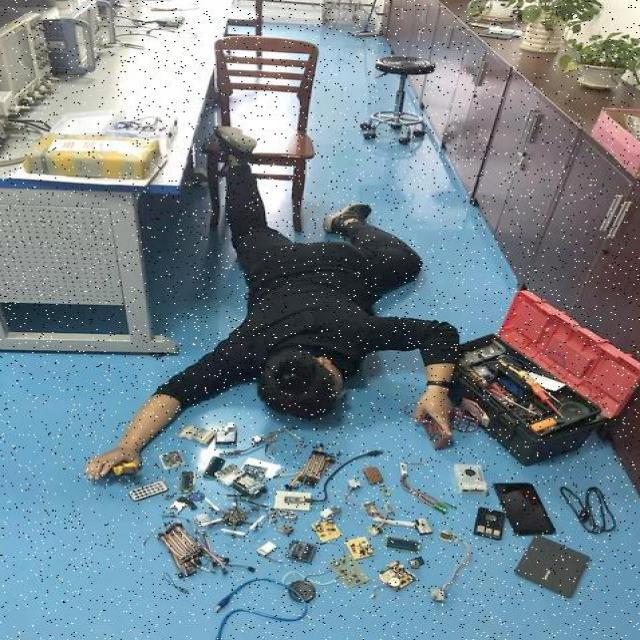fall: (180, 140, 452, 443)
